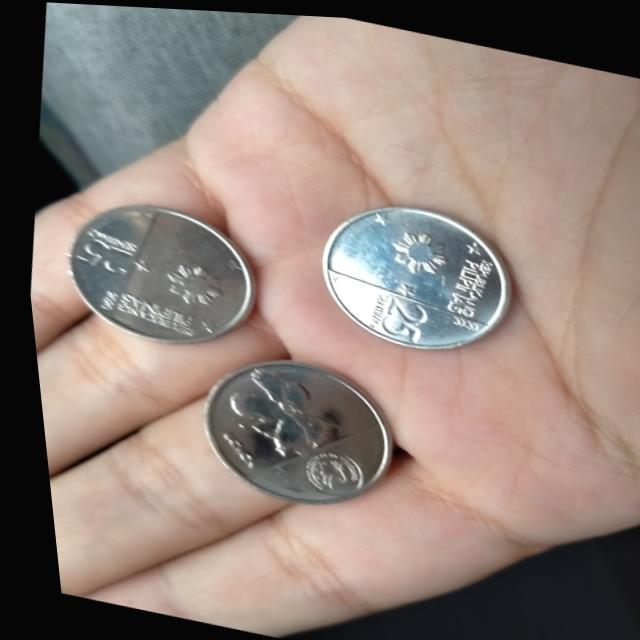25Cent_New_Back: (217, 359, 335, 460)
25Cent_New_Front: (355, 286, 428, 344), (73, 223, 135, 284)
